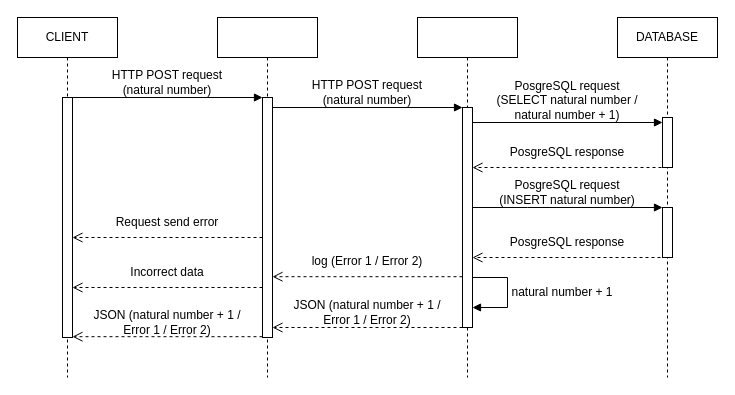
This 735x395 diagram has some shape labels left out. Each missing label, with the box of its shape:
APPLICATION SERVER: (416, 16, 518, 378)
WEB SERVER: (216, 16, 318, 378)
